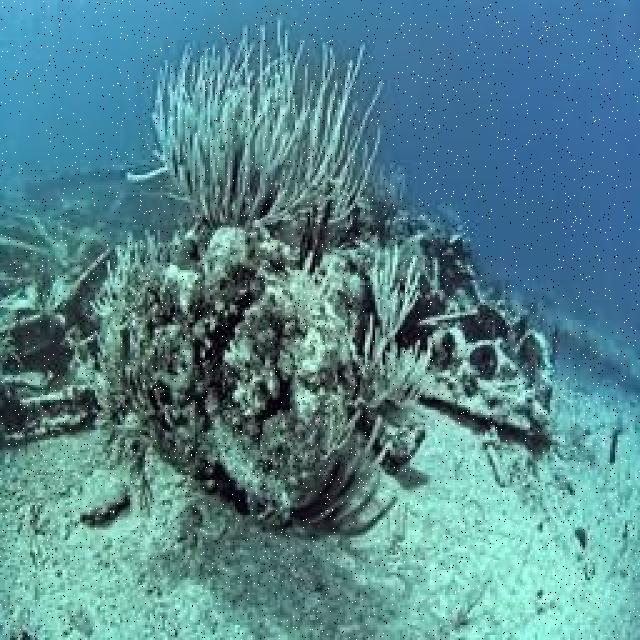reefs: (93, 165, 535, 532), (123, 18, 384, 237), (2, 159, 184, 444), (292, 416, 398, 542), (357, 241, 425, 408)
sea-floor: (416, 320, 552, 434)
